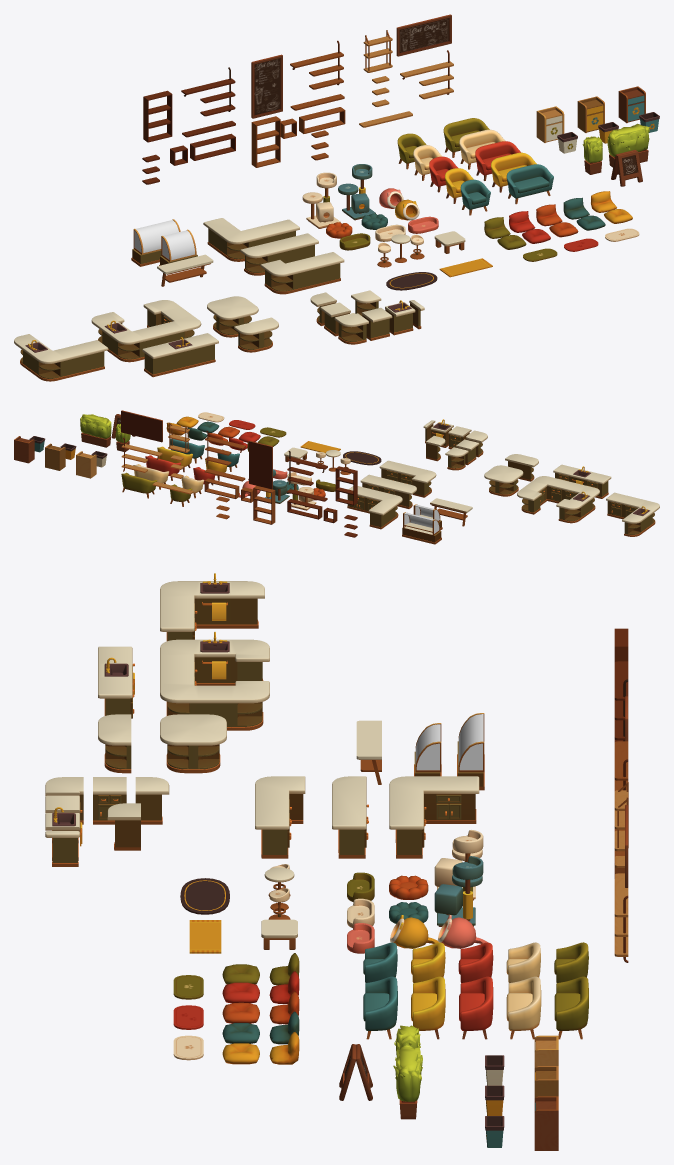
File: Furniture.fbx
3 views of the same model, one above another, from view 1: azimuth 30°, elevation 25°; view 2: azimuth 150°, elevation 25°; view 3: azimuth 270°, elevation 25° (orthographic). The views are drawn at different scales.
Parts seen in each view (by area): view 1: Bar_Kitchen_Angled_A, Bar_Kitchen_Angled_Long_A, Blackboard_Large_Vertical, Bar_Kitchen_Straight_A, Blackboard_Large, Cake_Display_Large_A, Sofa_Double_Blue, Plant_Bush_Long, Cat_Climber_A_Blue, Cat_Climber_A_Cream, Shelf_B_Stack, Cake_Display_A (+36 smaller); view 2: Bar_Kitchen_Angled_Long_A, Bar_Kitchen_Angled_A, Blackboard_Large_Vertical, Blackboard_Large, Cake_Display_Large_A, Plant_Bush_Long, Bar_Kitchen_Straight_A, Shelf_B_Stack, Shelf_C_Stack, Table_Kitchen_A, Sofa_Double_Olive, Shelf_B_Cascade (+47 smaller); view 3: Bar_Kitchen_Angled_Long_A, Bar_Kitchen_Angled_A, Bar_Kitchen_Straight_A, Cat_Climber_A_Blue, Sofa_Double_Cream, Sofa_Double_Blue, Sofa_Double_Red, Sofa_Double_Olive, Sofa_Double_Yellow, Cake_Display_Large_A, Plant_Bush_Long, x_Bar_Straight_3_Sink_copy2 (+31 smaller).
Boxes of the visible parts, x1,y1,x2,y2 form: Bar_Kitchen_Angled_A: (260, 252, 344, 294); Bar_Kitchen_Angled_Long_A: (203, 218, 299, 261); Blackboard_Large_Vertical: (251, 54, 282, 118); Bar_Kitchen_Straight_A: (240, 233, 318, 275); Blackboard_Large: (396, 14, 451, 56); Cake_Display_Large_A: (131, 219, 180, 266); Sofa_Double_Blue: (506, 164, 553, 204); Plant_Bush_Long: (607, 123, 649, 167); Cat_Climber_A_Blue: (338, 164, 375, 220); Cat_Climber_A_Cream: (302, 172, 340, 228); Shelf_B_Stack: (251, 116, 280, 167); Cake_Display_A: (159, 229, 197, 265); Bar_Kitchen_Angled_Long_A: (347, 486, 402, 529); Bar_Kitchen_Angled_A: (379, 460, 436, 497); Blackboard_Large_Vertical: (249, 441, 272, 489); Blackboard_Large: (121, 410, 162, 442); Cake_Display_Large_A: (402, 512, 441, 544); Plant_Bush_Long: (80, 414, 111, 447); Bar_Kitchen_Straight_A: (360, 474, 416, 508); Shelf_B_Stack: (253, 485, 275, 524); Shelf_C_Stack: (335, 466, 357, 505); Table_Kitchen_A: (430, 498, 472, 526); Sofa_Double_Olive: (121, 472, 157, 498); Shelf_B_Cascade: (205, 430, 245, 465); Bar_Kitchen_Angled_Long_A: (389, 776, 479, 858); Bar_Kitchen_Angled_A: (255, 776, 305, 858); Bar_Kitchen_Straight_A: (332, 776, 368, 858); Cat_Climber_A_Blue: (434, 856, 483, 926); Sofa_Double_Cream: (506, 976, 541, 1039); Sofa_Double_Blue: (363, 976, 397, 1039); Sofa_Double_Red: (459, 976, 493, 1039); Sofa_Double_Olive: (554, 976, 588, 1039); Sofa_Double_Yellow: (411, 976, 445, 1039); Cake_Display_Large_A: (457, 713, 484, 790); Plant_Bush_Long: (393, 1043, 422, 1119); x_Bar_Straight_3_Sink_copy2: (198, 573, 231, 628).
Bounding box in the file's own units: 2655 × 431 × 1220.
